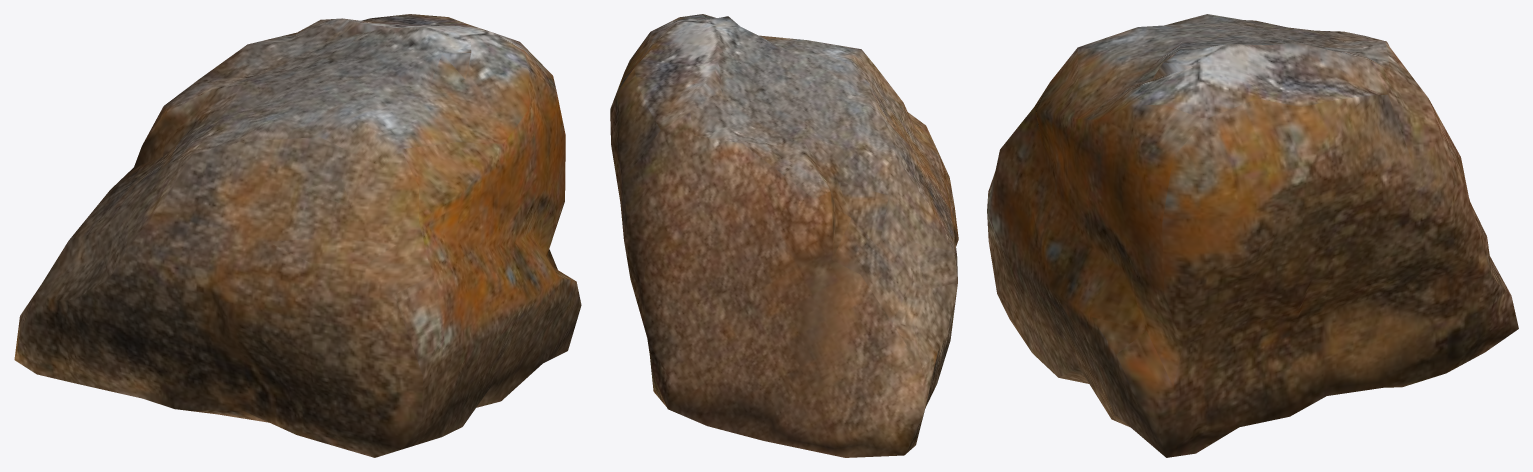
Rendered from boulder_b.glb.
The picture shows the model from 3 angles, left to right: view 1: azimuth 30°, elevation 25°; view 2: azimuth 150°, elevation 25°; view 3: azimuth 270°, elevation 25°; orthographic projection. The views are drawn at different scales.
Parts seen in each view (by area): view 1: boulder_b; view 2: boulder_b; view 3: boulder_b.
Part boxes in pixels (bbox=[...]): boulder_b: bbox=[14, 14, 581, 457]; boulder_b: bbox=[610, 14, 958, 457]; boulder_b: bbox=[987, 14, 1518, 457].
Size of the model in its own units: 2.51 by 1.88 by 2.49.
1 material, 1 textured.
